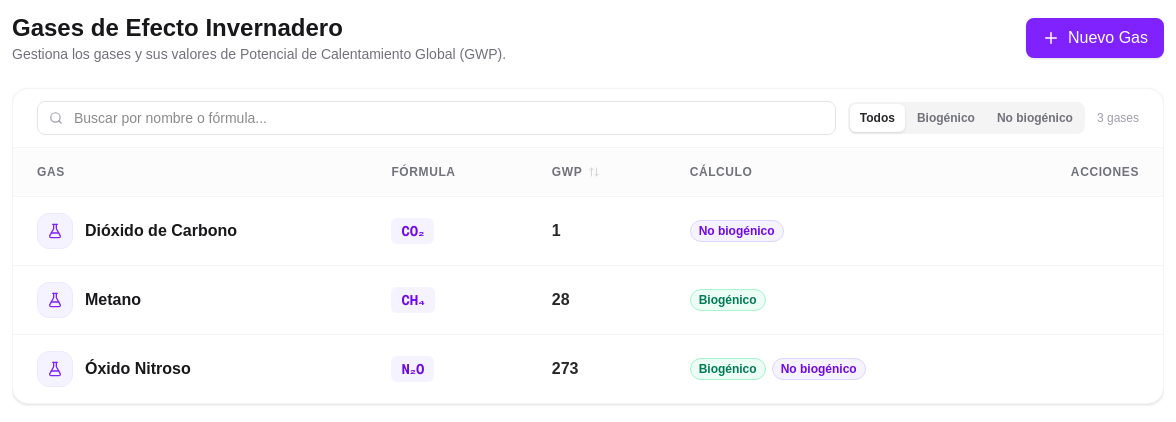
Scenario: GasesList › G-07 — Filtro tipo "Biogénico" › muestra solo gases biogénicos y "ambos", excluye no-biogénicos puros
Step 1. Click the button "Biogénico" → coordinates (946, 118), box [907,104,985,132]
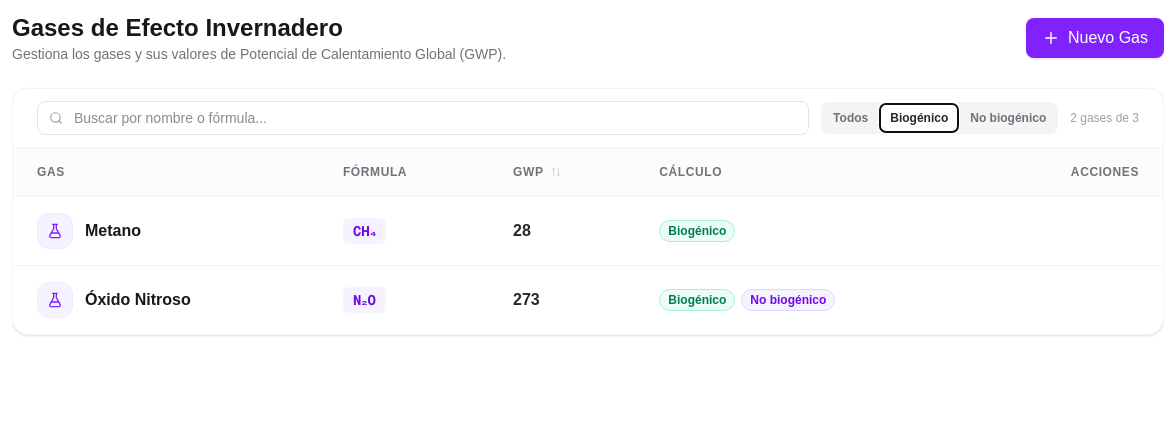
Expected: the text "Dióxido de Carbono" is gone
